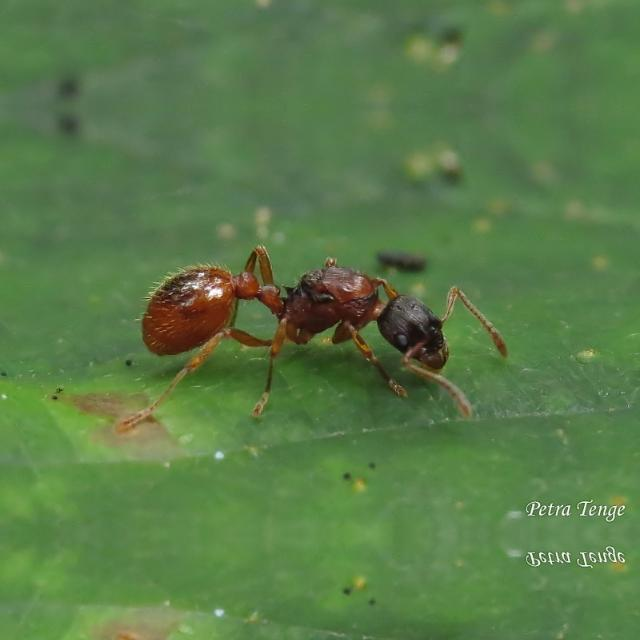Myrmica: (158, 245, 466, 408)
